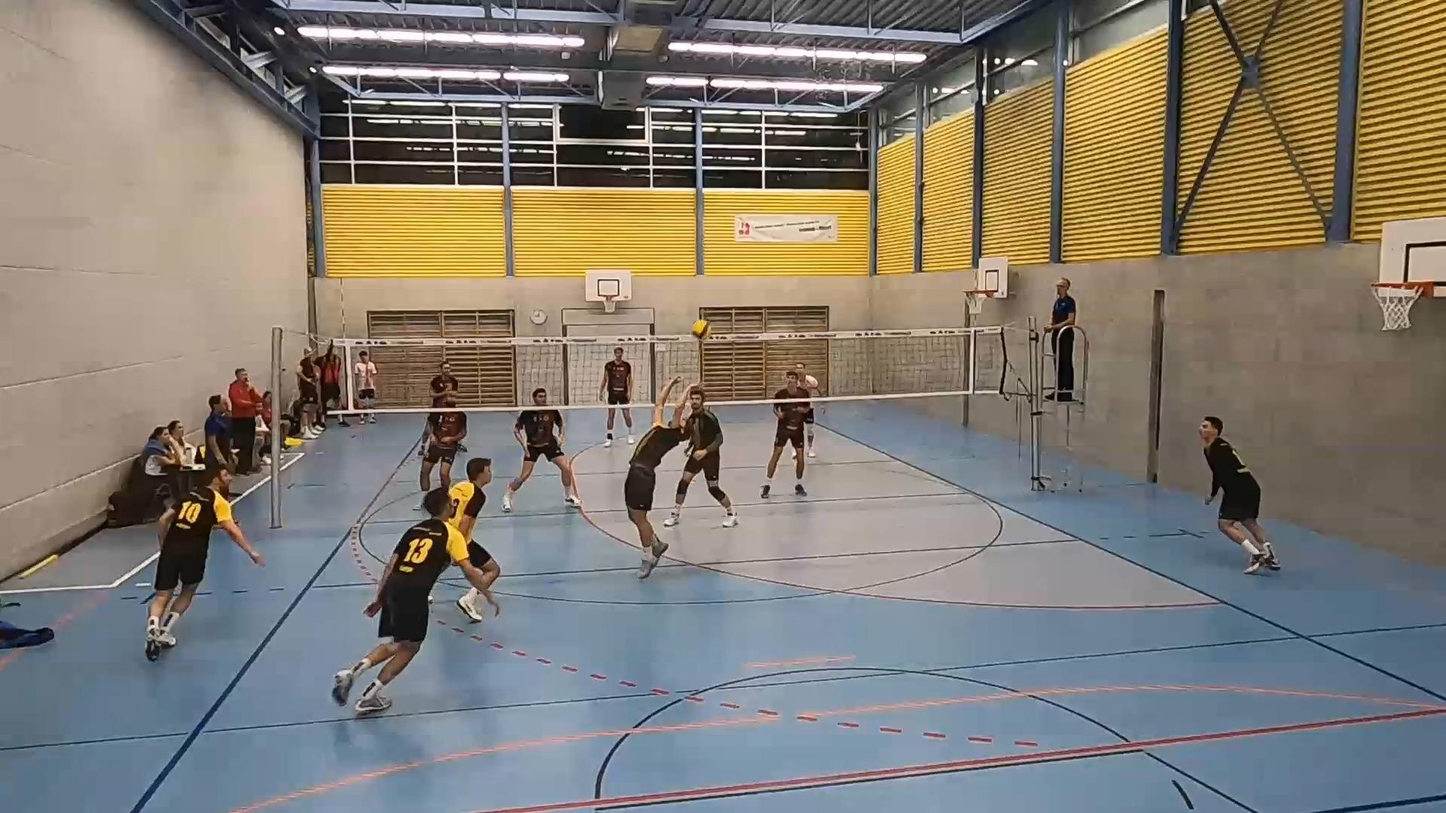alzata: (620, 375, 718, 577)
